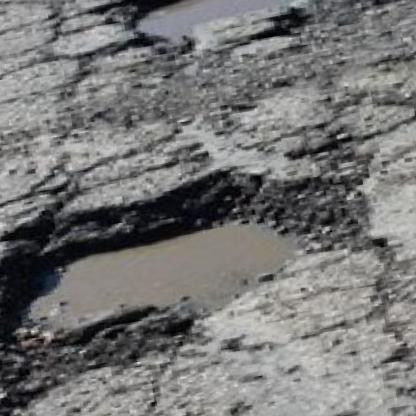pothole: (0, 142, 396, 407), (98, 0, 350, 64)
